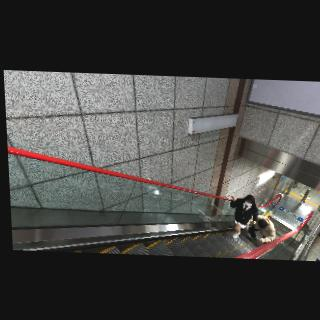normal: (228, 194, 258, 241), (243, 217, 278, 246)
